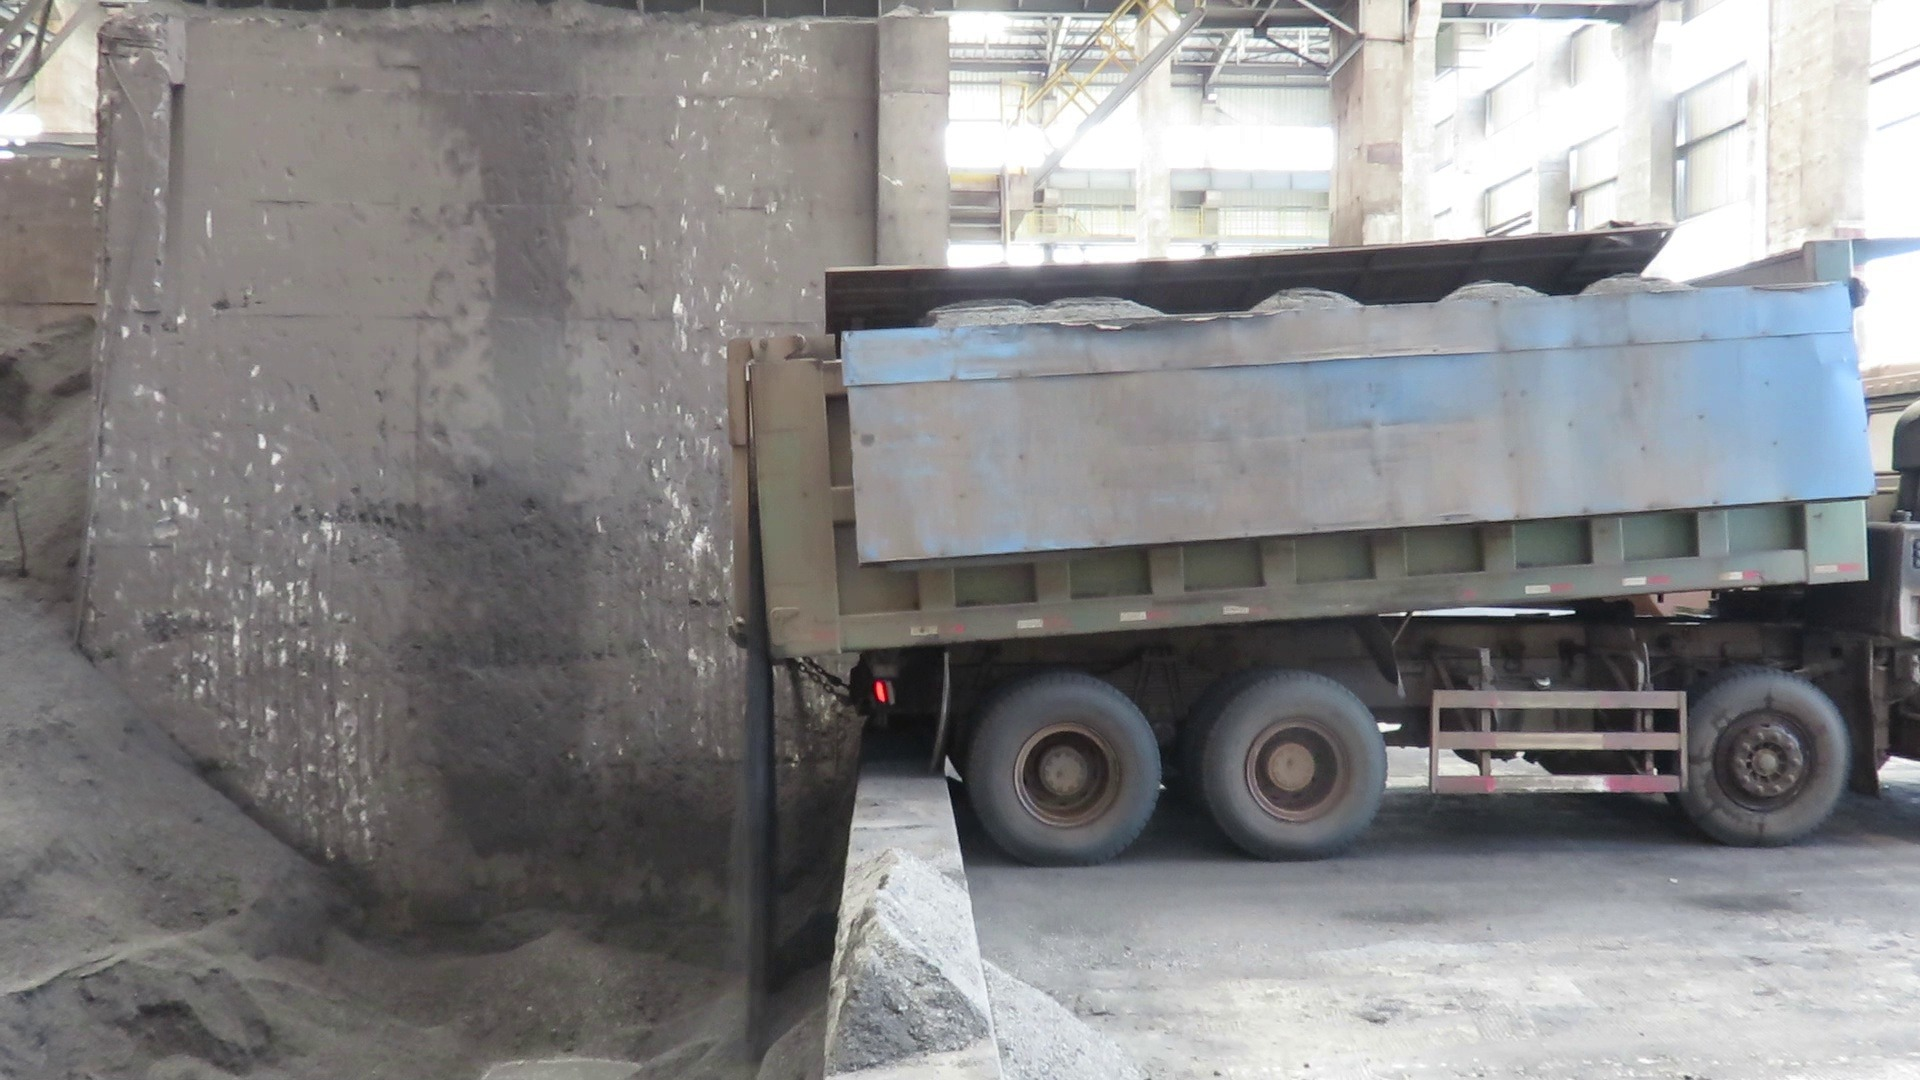truck: (716, 227, 1920, 865)
